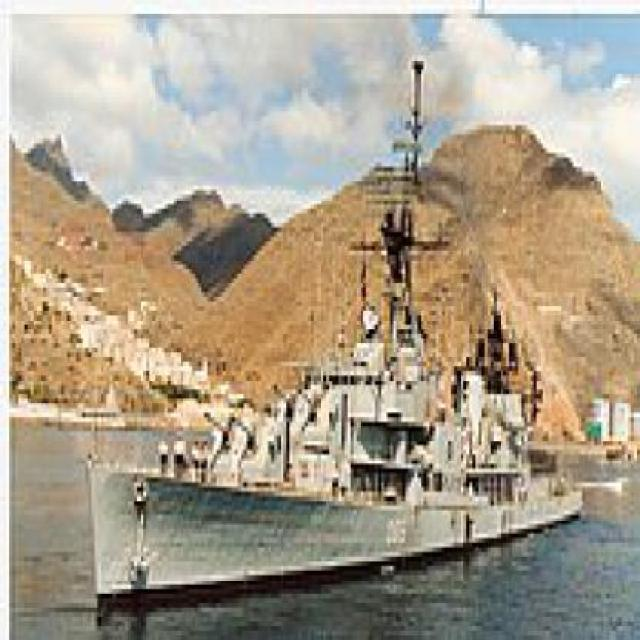warship2: (68, 93, 589, 627)
